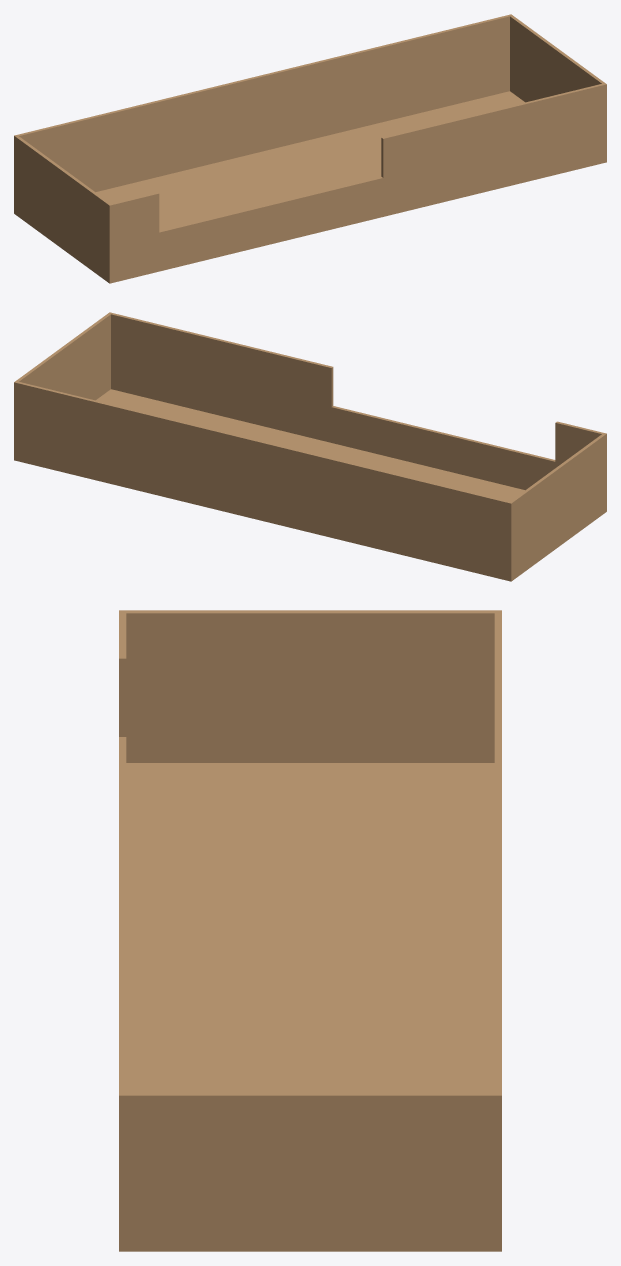
The model's file is case.glb.
3 renders of one model, top to bottom at view 1: azimuth 30°, elevation 25°; view 2: azimuth 150°, elevation 25°; view 3: azimuth 270°, elevation 25°, orthographic. The views are drawn at different scales.
Bounding box in the file's own units: 1.44 × 0.2166 × 0.4812.
